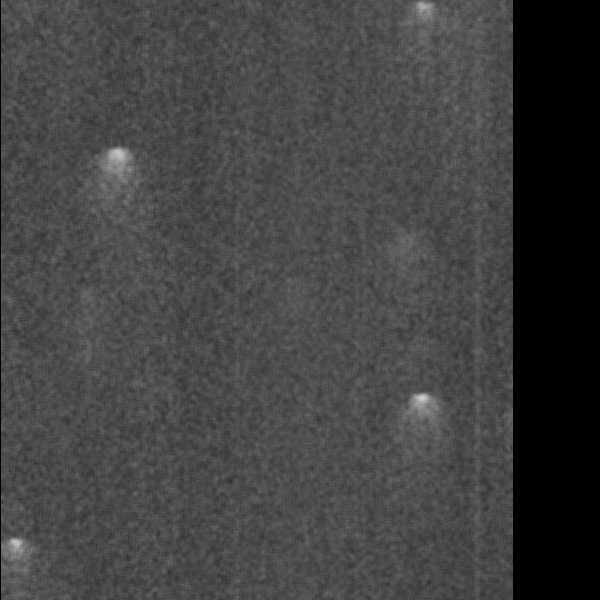spark: (241, 384, 266, 431), (170, 360, 191, 394)
